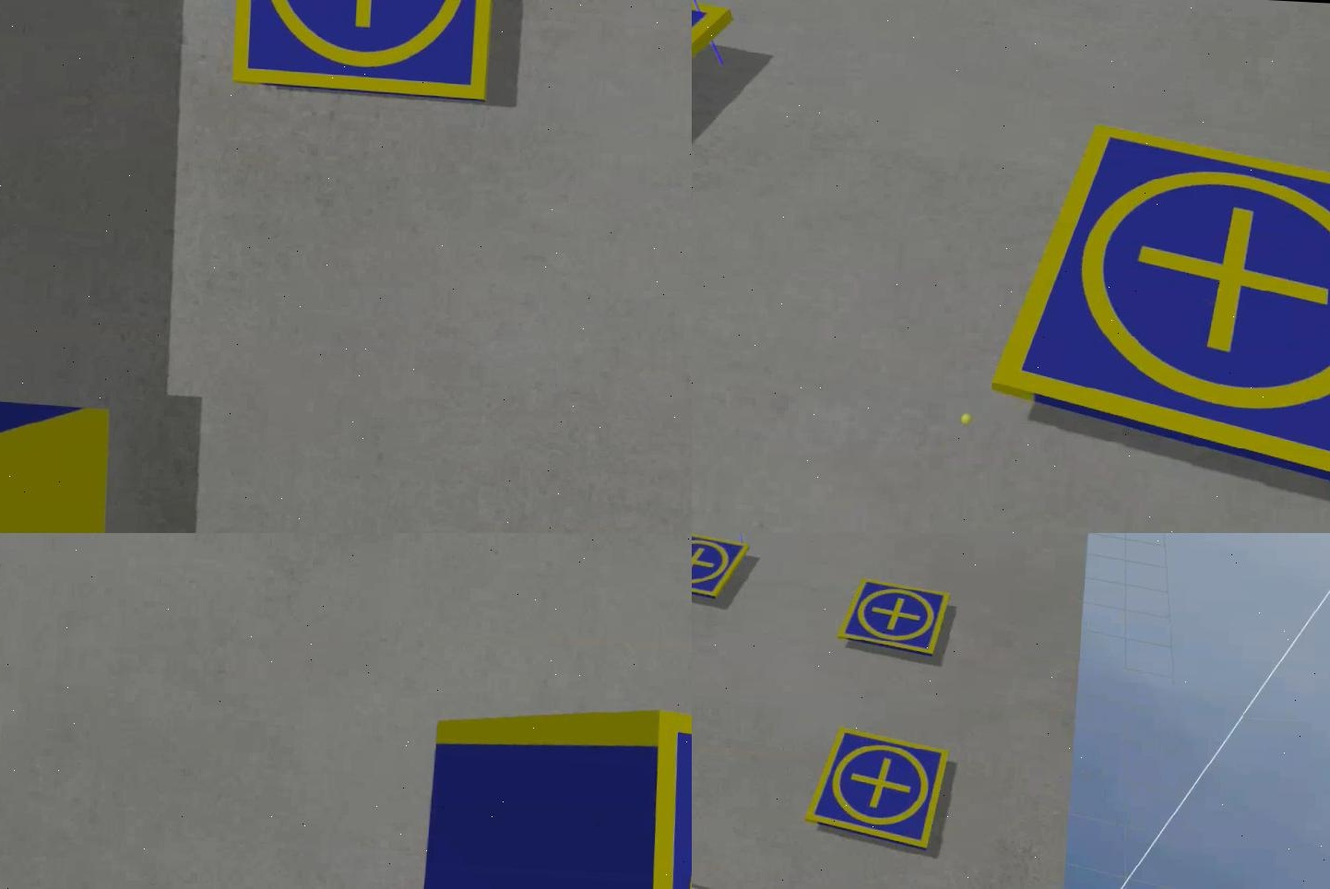small_base: (982, 118, 1328, 508), (229, 1, 498, 100), (807, 729, 948, 858), (837, 579, 953, 664), (636, 714, 690, 889), (690, 534, 747, 605)
